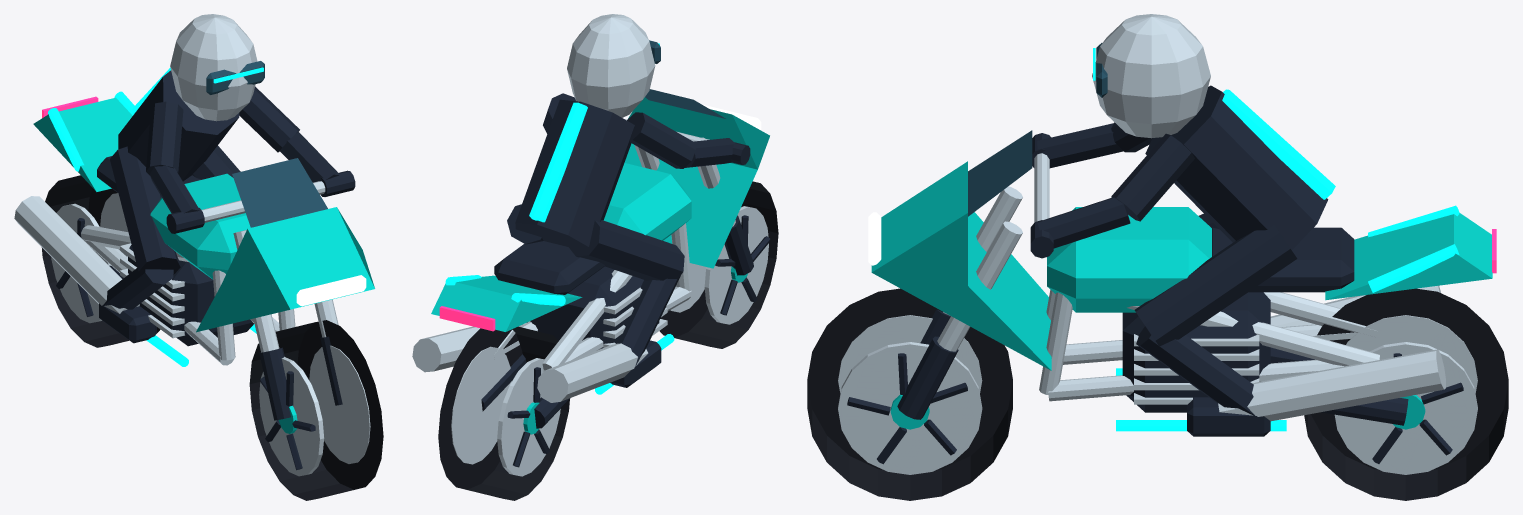
The model's file is motorcycle.glb.
The picture shows the model from 3 angles, left to right: view 1: azimuth 30°, elevation 25°; view 2: azimuth 150°, elevation 25°; view 3: azimuth 270°, elevation 25°; orthographic projection. The views are drawn at different scales.
Visible parts, largest first — view 1: body-carbon-night, body-vehicle-accent, body-brushed-chrome, wheel-front-brushed-chrome, wheel-front, body-midnight-glass, wheel-rear, wheel-rear-brushed-chrome, body-vehicle-glow, body-headlights, wheel-front-carbon-night, wheel-rear-carbon-night; view 2: body-carbon-night, body-brushed-chrome, body-vehicle-accent, wheel-rear-brushed-chrome, wheel-rear, wheel-front, wheel-front-brushed-chrome, body-vehicle-glow, wheel-front-carbon-night, body-midnight-glass, wheel-rear-carbon-night, body-rear-lights; view 3: body-carbon-night, body-brushed-chrome, body-vehicle-accent, wheel-front, wheel-rear, wheel-front-brushed-chrome, wheel-rear-brushed-chrome, body-vehicle-glow, body-midnight-glass, wheel-front-carbon-night, wheel-rear-carbon-night.
Boxes of the visible parts, left/top/right/bottom form: body-carbon-night: left=97, top=70, right=355, bottom=420; body-vehicle-accent: left=33, top=97, right=374, bottom=332; body-brushed-chrome: left=14, top=14, right=338, bottom=365; wheel-front-brushed-chrome: left=259, top=345, right=370, bottom=476; wheel-front: left=249, top=320, right=383, bottom=500; body-midnight-glass: left=206, top=61, right=327, bottom=227; wheel-rear: left=41, top=175, right=160, bottom=347; wheel-rear-brushed-chrome: left=51, top=193, right=128, bottom=323; body-vehicle-glow: left=48, top=67, right=263, bottom=366; body-headlights: left=296, top=275, right=366, bottom=306; wheel-front-carbon-night: left=260, top=371, right=315, bottom=470; wheel-rear-carbon-night: left=56, top=218, right=93, bottom=316; body-carbon-night: left=481, top=93, right=753, bottom=428; body-brushed-chrome: left=412, top=14, right=735, bottom=402; body-vehicle-accent: left=431, top=97, right=769, bottom=331; wheel-rear-brushed-chrome: left=451, top=346, right=560, bottom=476; wheel-rear: left=438, top=326, right=569, bottom=500; wheel-front: left=659, top=181, right=778, bottom=348; wheel-front-brushed-chrome: left=670, top=206, right=768, bottom=324; body-vehicle-glow: left=445, top=43, right=674, bottom=394; wheel-front-carbon-night: left=715, top=215, right=770, bottom=315; body-midnight-glass: left=645, top=40, right=725, bottom=118; wheel-rear-carbon-night: left=507, top=367, right=549, bottom=467; body-rear-lights: left=439, top=306, right=495, bottom=331; body-carbon-night: left=897, top=85, right=1408, bottom=436; body-brushed-chrome: left=937, top=14, right=1445, bottom=421; body-vehicle-accent: left=871, top=161, right=1492, bottom=370; wheel-front: left=807, top=288, right=1012, bottom=500; wheel-rear: left=1304, top=288, right=1508, bottom=500; wheel-front-brushed-chrome: left=838, top=315, right=982, bottom=474; wheel-rear-brushed-chrome: left=1334, top=315, right=1477, bottom=474; body-vehicle-glow: left=1093, top=48, right=1459, bottom=431; body-midnight-glass: left=968, top=43, right=1107, bottom=216; wheel-front-carbon-night: left=847, top=353, right=967, bottom=464; wheel-rear-carbon-night: left=1372, top=353, right=1463, bottom=463.
Size of the model in its own units: 0.76 by 1.61 by 2.18.
